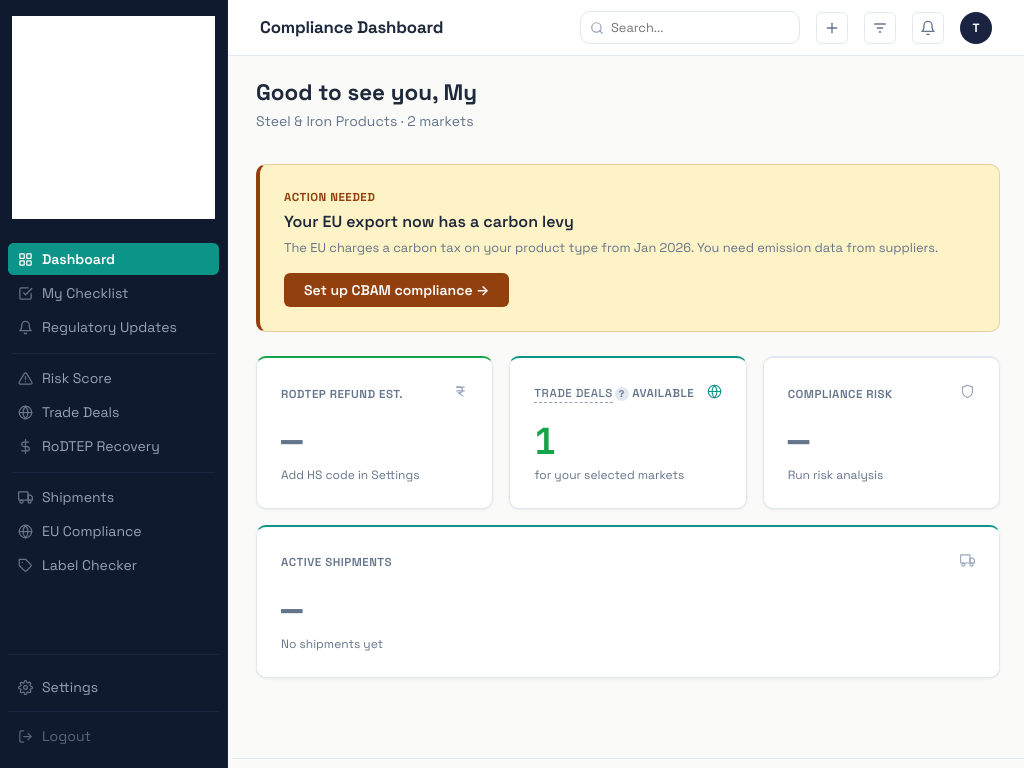
Test: App Component › Navigation › navigates to FTA schemes view
Expected: the navigation bar is shown, [0,0,228,767]
Step 1. Click the button "Trade Deals" → (114, 412), box [8,396,219,428]
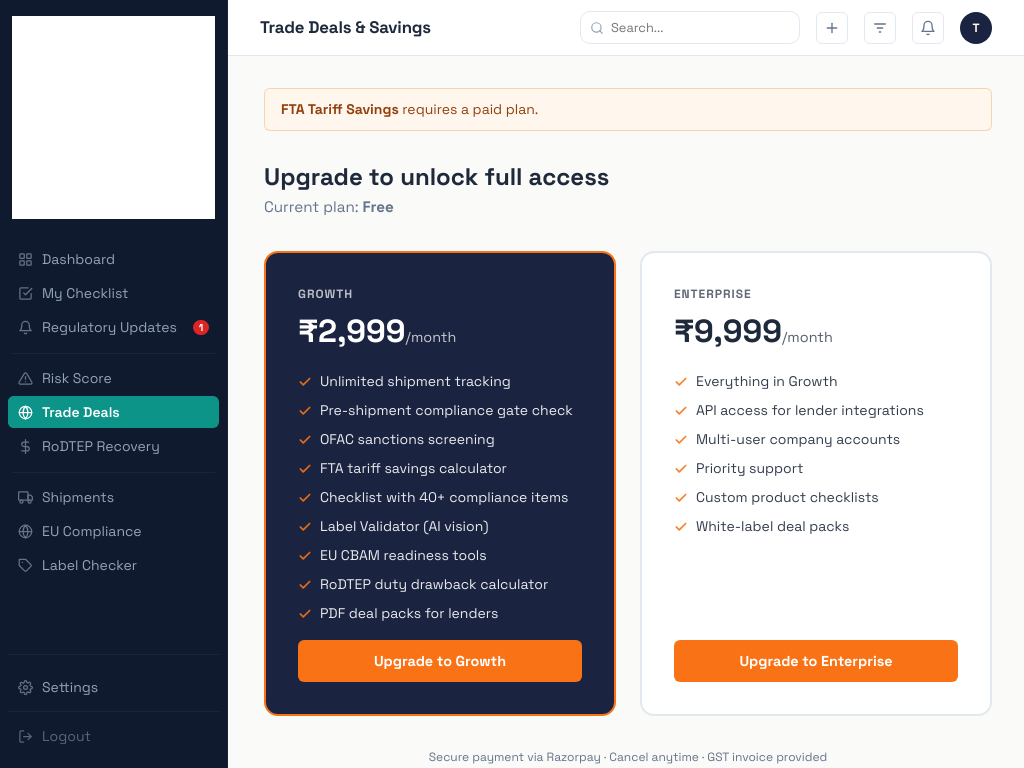
Expected: the heading "Trade Deals & Savings" is shown, [260,17,431,38]
